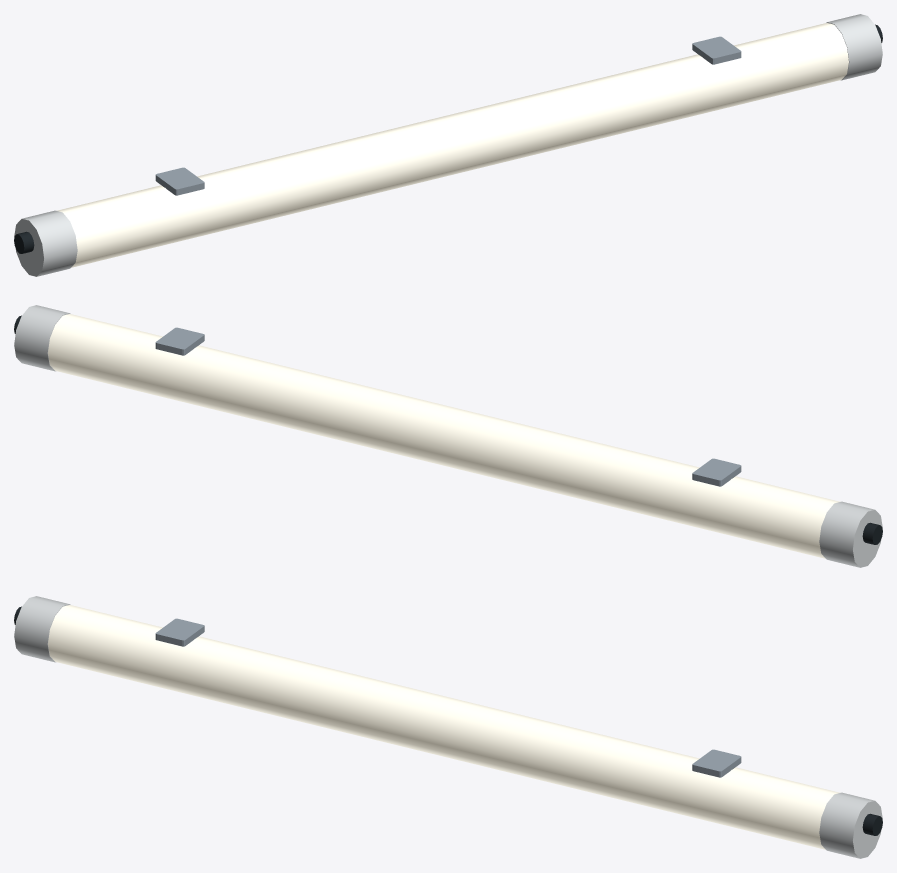
The model's file is source.glb.
The picture shows the model from 3 angles, top to bottom: view 1: azimuth 30°, elevation 25°; view 2: azimuth 150°, elevation 25°; view 3: azimuth 330°, elevation 25°; orthographic projection.
Parts seen in each view (by area): view 1: Emitters, 粉末涂层铝壳, 机加工金属; view 2: Emitters, 粉末涂层铝壳, 机加工金属; view 3: Emitters, 粉末涂层铝壳, 机加工金属.
Boxes of the visible parts, x1,y1,x2,y2 form: Emitters: (56,23,848,267); 粉末涂层铝壳: (14,14,882,276); 机加工金属: (155,36,741,195); Emitters: (48,314,840,558); 粉末涂层铝壳: (14,305,882,567); 机加工金属: (155,327,741,486); Emitters: (48,605,840,849); 粉末涂层铝壳: (14,596,882,858); 机加工金属: (155,618,741,777).
Bounding box in the file's own units: 1.23 × 0.0817 × 0.0745.
